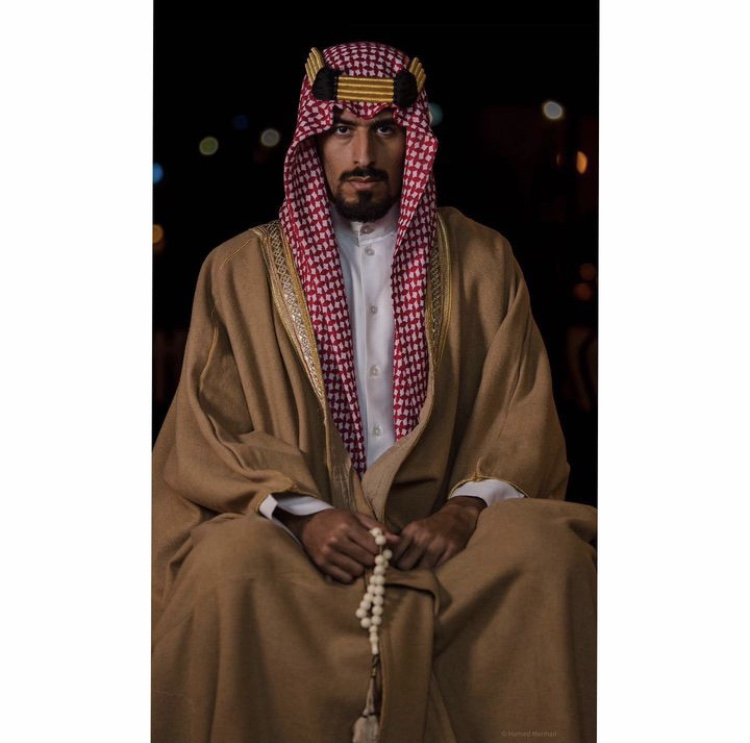Saudi_Founding_Day: (153, 37, 600, 743)
